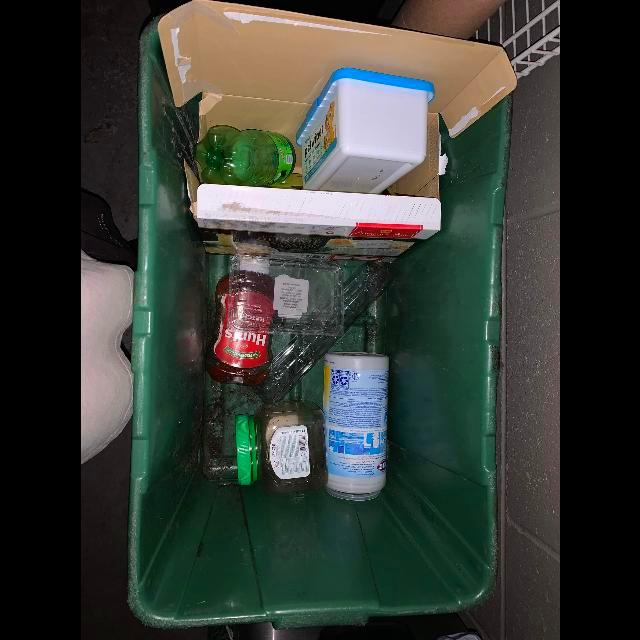cardboard: (157, 0, 517, 262)
plastic_bottle: (235, 400, 327, 493), (204, 270, 274, 387), (192, 125, 296, 187)
